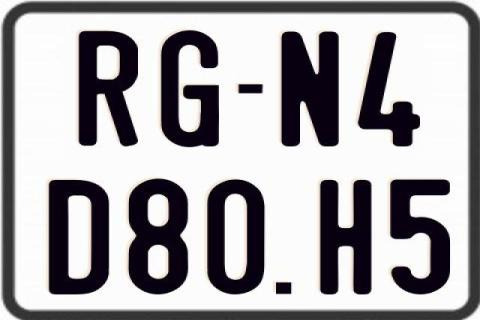0: (389, 177, 454, 297), (356, 29, 422, 145), (128, 177, 188, 296), (204, 180, 262, 296)
D: (49, 179, 110, 295)
G: (159, 28, 221, 146)
H: (318, 179, 375, 295)
N: (281, 31, 342, 147)
R: (78, 31, 139, 147)
